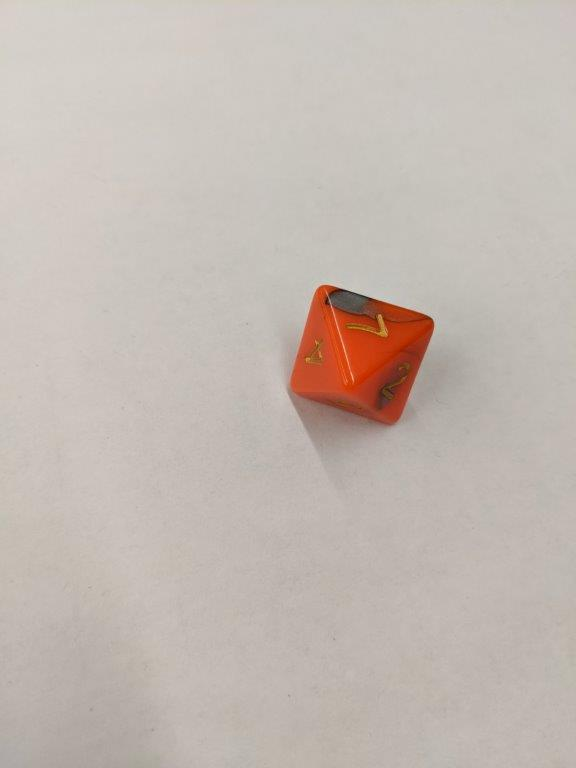d8-7: (291, 280, 438, 426)
